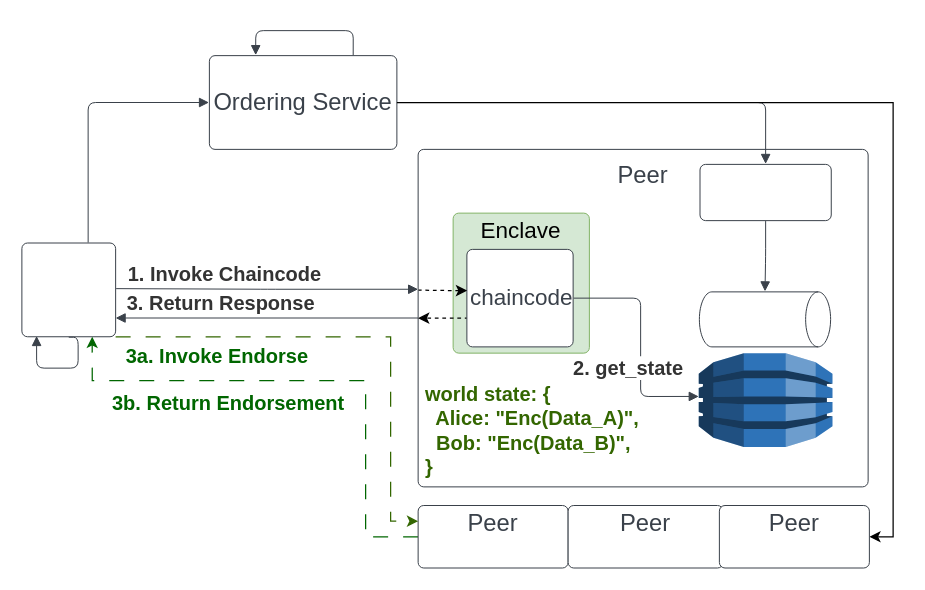
Some shapes in this 925 by 590 pixel diagram are drawn without their labels. The centre of each missing label's shape, as x and y in pixels:
"Block & Txn Validator" belongs at point (765, 191).
"Client" belongs at point (68, 289).
"Ledger" belongs at point (764, 319).
"world state" belongs at point (765, 399).
